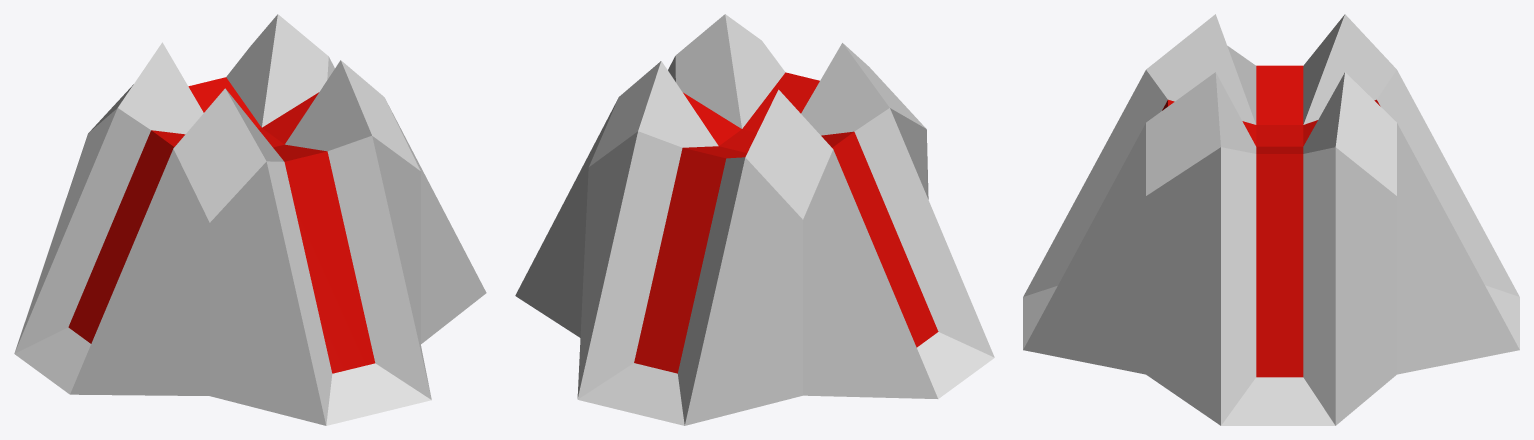
Rendered from VentEnemy.fbx.
3 views of the same model, side by side, from view 1: azimuth 30°, elevation 25°; view 2: azimuth 150°, elevation 25°; view 3: azimuth 270°, elevation 25° (orthographic). The views are drawn at different scales.
Parts seen in each view (by area): view 1: Cube; view 2: Cube; view 3: Cube.
Boxes of the visible parts, box(x1,y1,x2,y2) form: Cube: box(14, 14, 486, 425); Cube: box(515, 14, 994, 425); Cube: box(1023, 14, 1519, 425).
Size of the model in its own units: 3.95 by 2.46 by 3.96.
